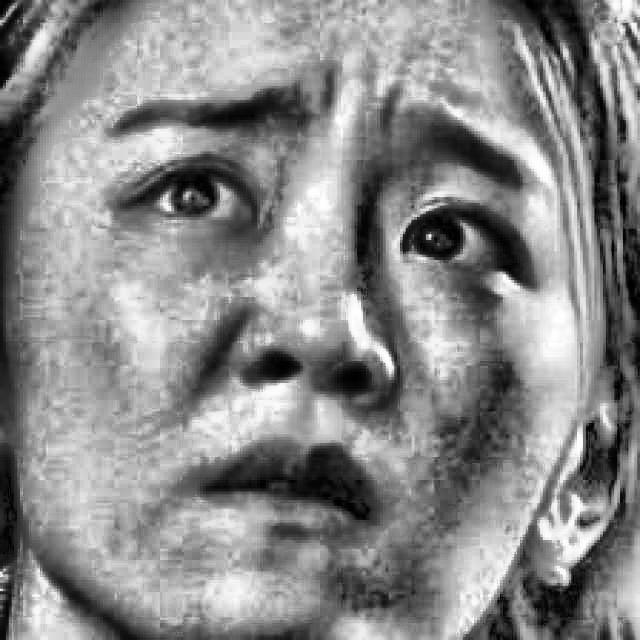fear: (80, 30, 557, 600)
